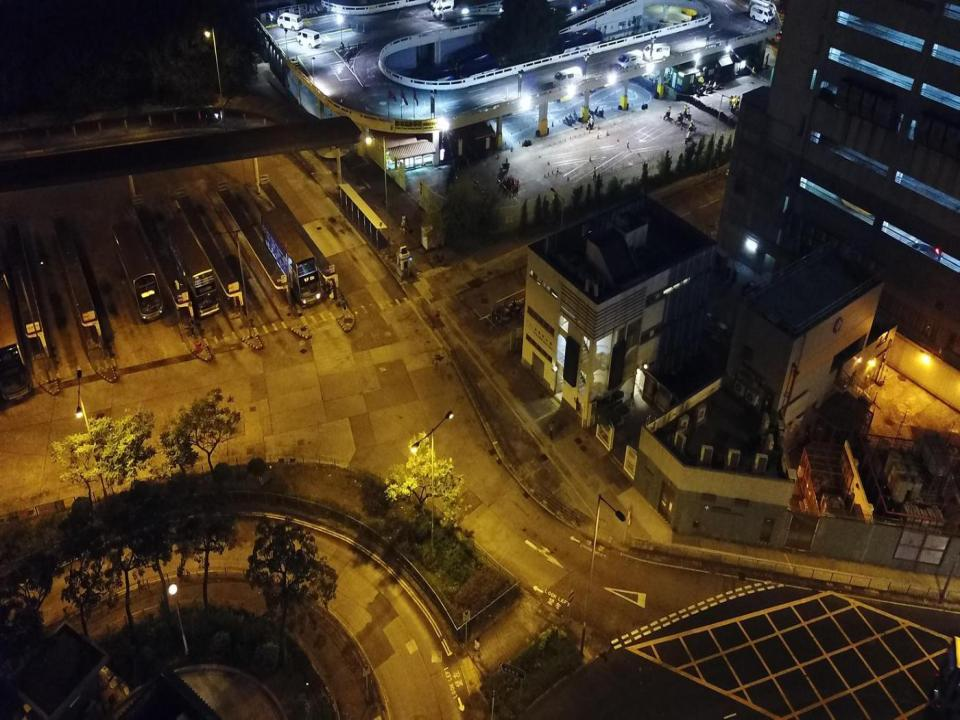bus: (261, 208, 322, 308), (165, 214, 219, 320), (111, 219, 163, 324), (412, 59, 501, 95), (552, 28, 602, 65)
car: (179, 105, 225, 122), (434, 4, 453, 16)
van: (554, 65, 582, 88), (642, 42, 670, 65), (276, 12, 303, 32), (748, 0, 775, 19), (296, 28, 321, 48), (617, 50, 643, 68), (750, 5, 774, 24), (429, 0, 455, 8)
